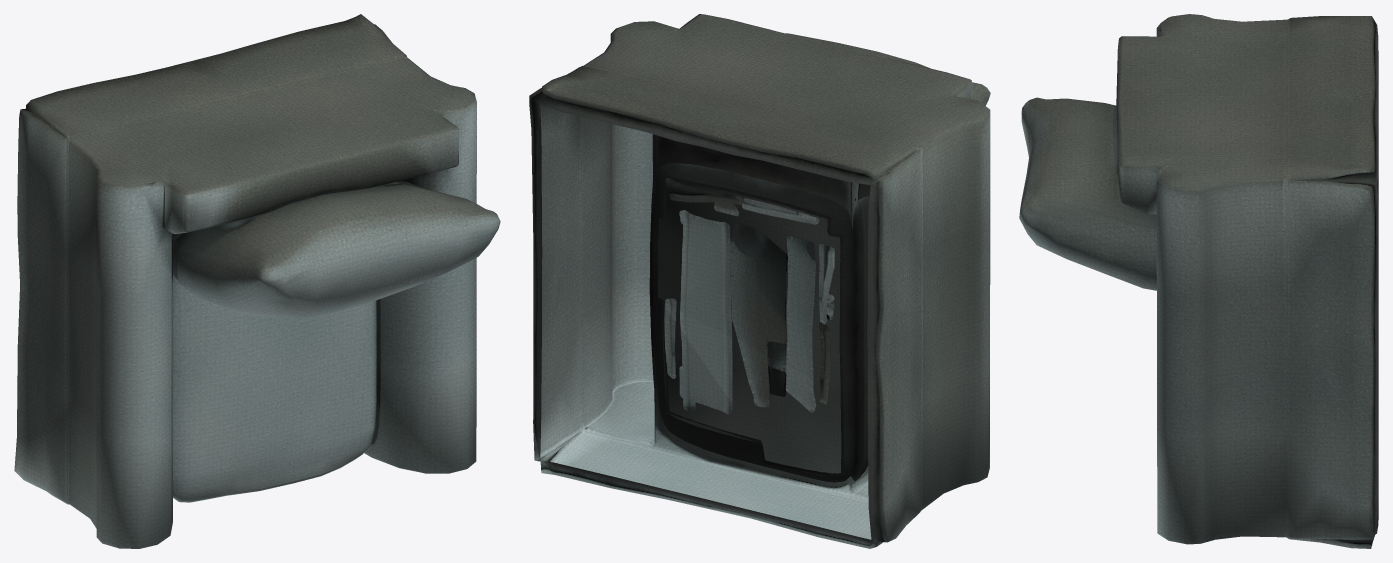
Rendered from HSM0006.obj.
The picture shows the model from 3 angles, left to right: view 1: azimuth 30°, elevation 25°; view 2: azimuth 150°, elevation 25°; view 3: azimuth 270°, elevation 25°; orthographic projection. The views are drawn at different scales.
Visible parts, largest first — view 1: CasualSectionalArmChair_424236_Stone_Gray__CasualSectionalArmCha; view 2: CasualSectionalArmChair_424236_Stone_Gray__CasualSectionalArmCha; view 3: CasualSectionalArmChair_424236_Stone_Gray__CasualSectionalArmCha.
Part boxes in pixels (bbox=[...]): CasualSectionalArmChair_424236_Stone_Gray__CasualSectionalArmCha: bbox=[14, 14, 500, 548]; CasualSectionalArmChair_424236_Stone_Gray__CasualSectionalArmCha: bbox=[529, 14, 990, 548]; CasualSectionalArmChair_424236_Stone_Gray__CasualSectionalArmCha: bbox=[1019, 14, 1378, 548].
Size of the model in its own units: 107 by 106 by 91.16.
1 material, 1 textured.
